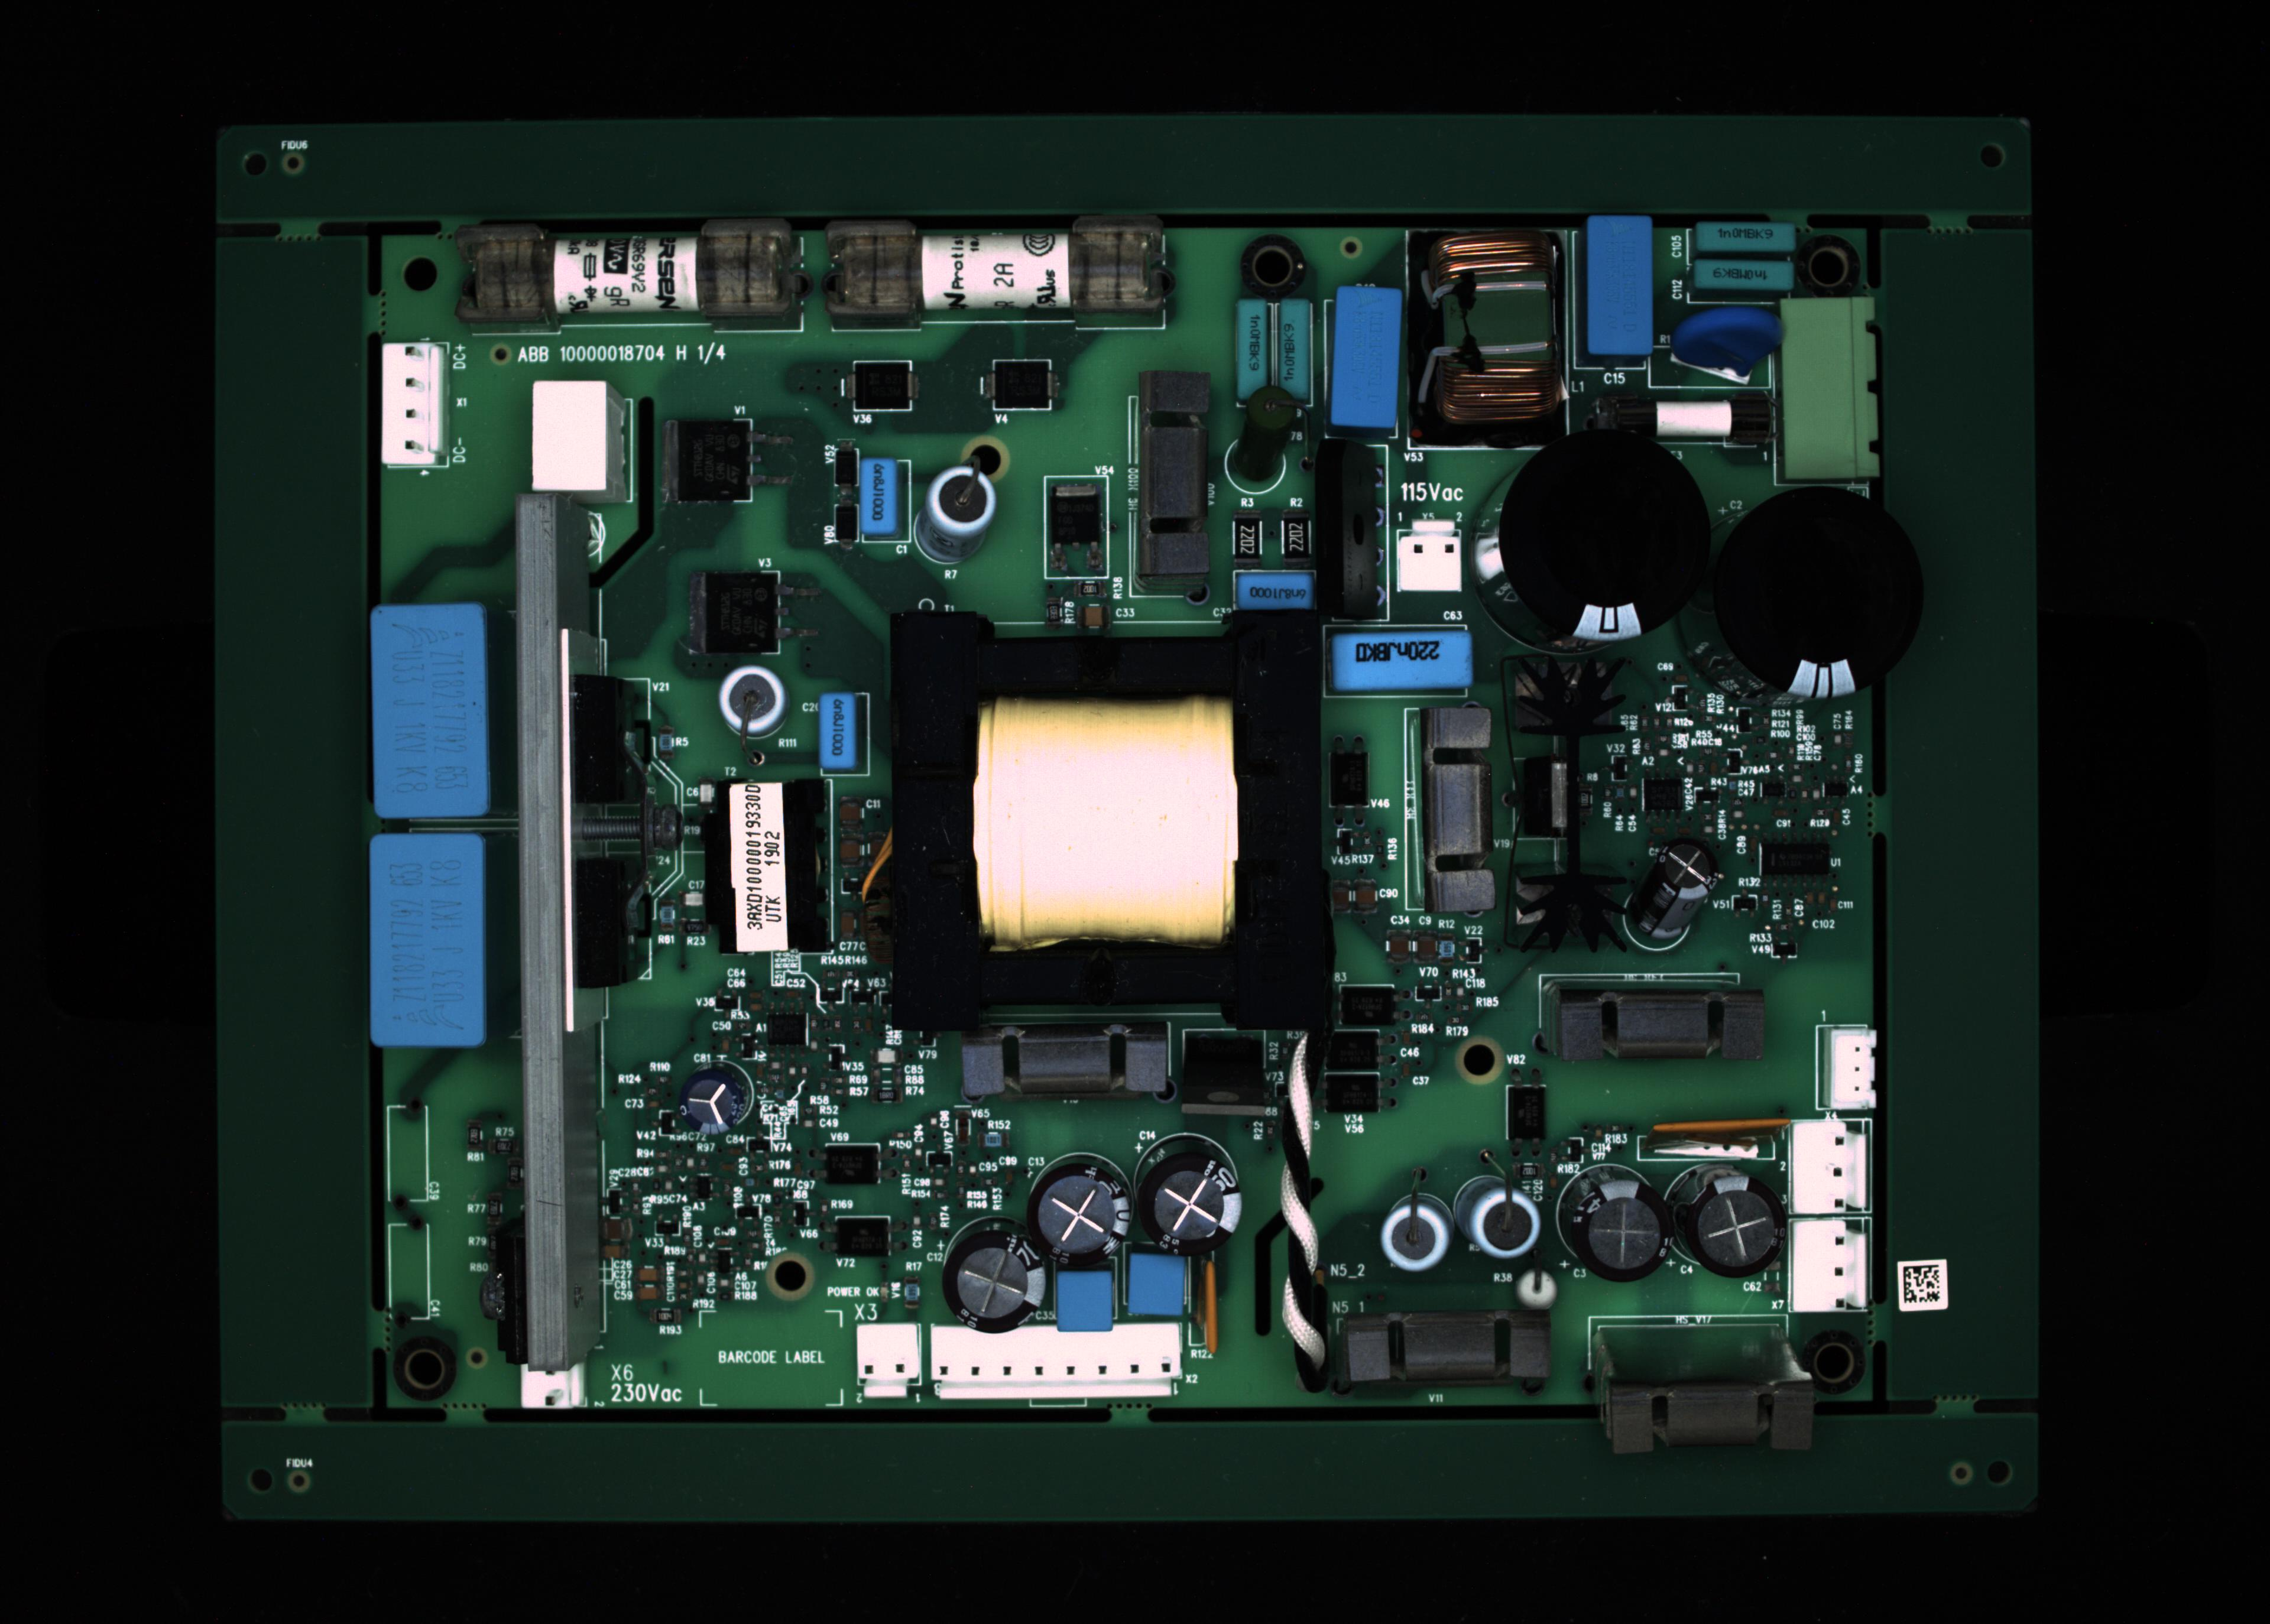10_p: (1648, 346, 1772, 394)
11_q: (1783, 299, 1880, 478)
12_r: (1591, 387, 1776, 455)
13_s: (385, 344, 443, 464)
14_t: (533, 380, 626, 501)
15_e: (860, 457, 899, 527)
16_k: (913, 469, 999, 566)
17_u: (1139, 371, 1213, 575)
18_v: (1234, 568, 1319, 613)
19_w: (1335, 634, 1468, 687)
1_a: (454, 216, 807, 322)
20_f: (1394, 522, 1461, 591)
21_g: (1498, 425, 1709, 642)
22_g: (1713, 489, 1925, 700)
23_h: (373, 605, 484, 817)
24_h: (373, 831, 484, 1044)
25_f: (515, 1360, 591, 1411)
26_f: (851, 1323, 927, 1403)
27_x: (932, 1323, 1178, 1397)
28_i: (1141, 1148, 1243, 1258)
29_i: (1025, 1158, 1134, 1274)
2_a: (821, 216, 1176, 316)
30_i: (941, 1227, 1050, 1338)
31_j: (1050, 1267, 1120, 1339)
32_j: (1115, 1237, 1197, 1329)
33_e: (819, 694, 853, 770)
34_k: (1380, 1192, 1458, 1271)
35_k: (1449, 1172, 1540, 1262)
36_i: (1568, 1179, 1679, 1280)
37_i: (1686, 1171, 1788, 1283)
38_l: (1331, 1311, 1556, 1385)
39_l: (1604, 1374, 1813, 1452)
3_b: (1236, 295, 1270, 402)
40_l: (1556, 990, 1765, 1060)
41_y: (1417, 708, 1500, 912)
42_z: (1830, 1033, 1878, 1107)
43_m: (1793, 1120, 1864, 1211)
44_m: (1792, 1220, 1866, 1313)
45_i: (677, 1065, 749, 1137)
46_n: (1338, 982, 1389, 1028)
47_n: (826, 1142, 883, 1186)
48_n: (837, 1213, 891, 1255)
49_aa: (761, 1011, 814, 1056)
4_b: (1280, 299, 1317, 402)
50_n: (1328, 1030, 1373, 1069)
51_n: (1326, 1076, 1377, 1114)
52_ab: (1331, 749, 1373, 807)
53_ac: (1656, 1130, 1790, 1165)
54_ad: (1196, 1258, 1224, 1353)
55_l: (957, 1021, 1175, 1097)
56_ae: (1176, 1025, 1268, 1113)
57_af: (1509, 647, 1635, 951)
58_i: (1651, 835, 1725, 900)
59_o: (992, 359, 1048, 410)
5_c: (1333, 286, 1400, 424)
60_o: (853, 359, 913, 413)
6_6: (1414, 230, 1577, 422)
7_c: (1588, 214, 1655, 353)
8_d: (1695, 220, 1795, 251)
9_d: (1688, 262, 1793, 286)
